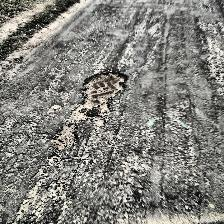pothole: (80, 70, 128, 112), (50, 122, 76, 149)
